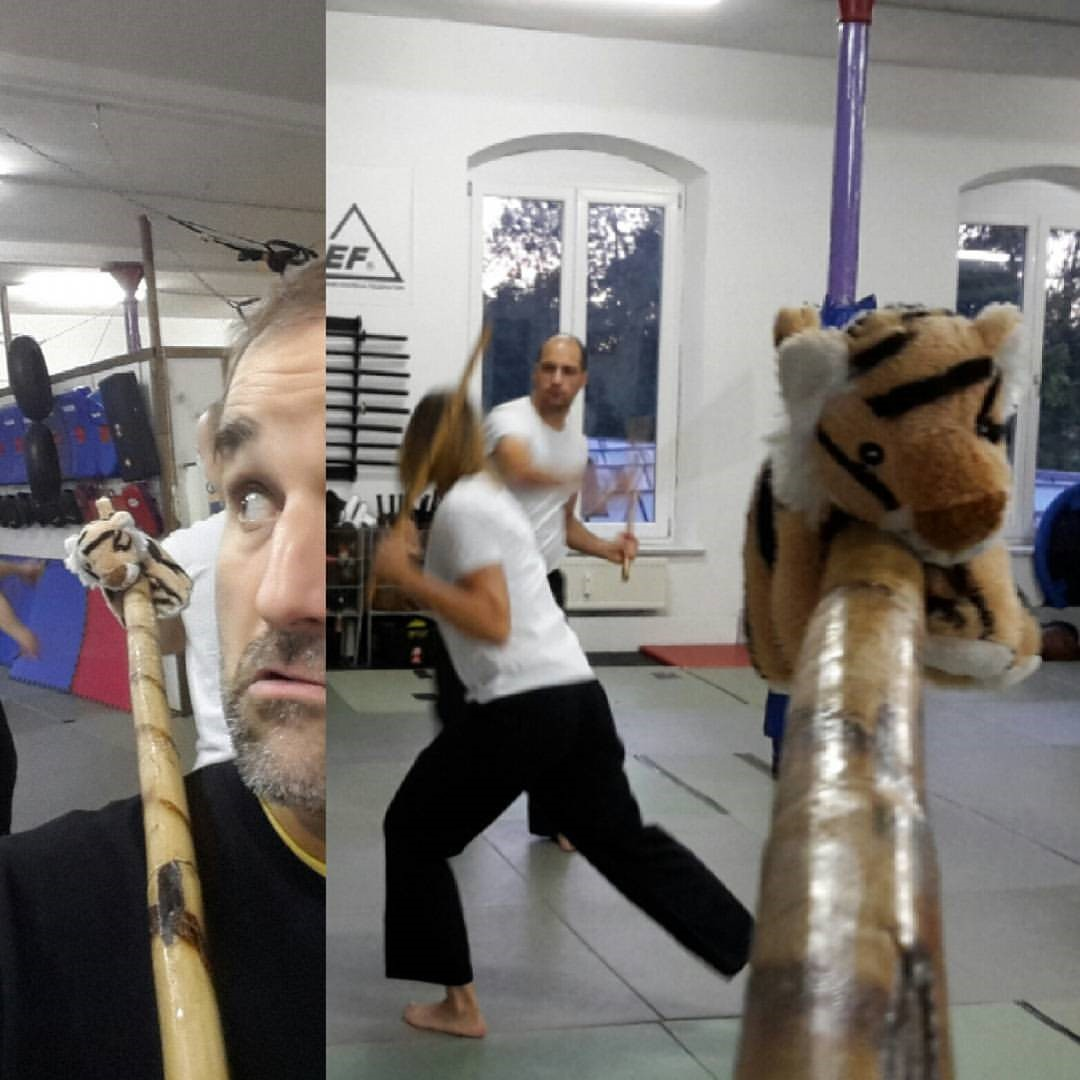baston_e: (740, 518, 951, 1080), (109, 590, 224, 1072), (383, 324, 497, 537)
baston_v: (617, 560, 635, 583)
